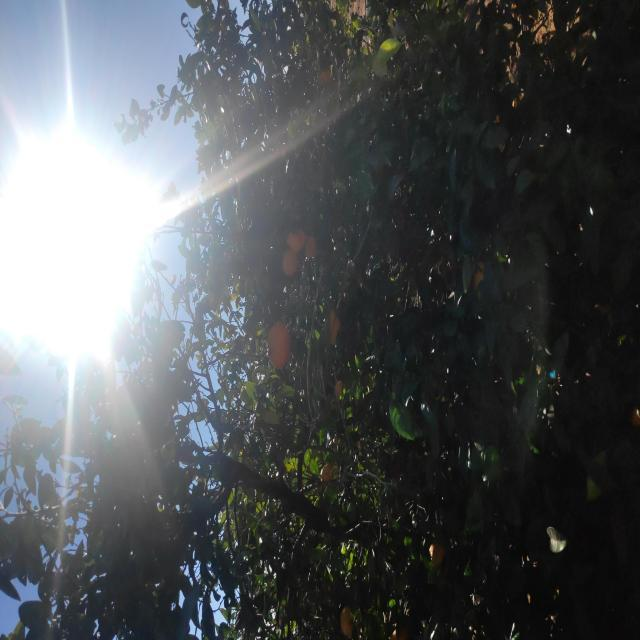Jeruk Sudah Matang: (272, 268, 316, 290), (296, 326, 332, 339), (363, 282, 392, 298), (352, 472, 380, 485), (4, 340, 34, 352), (390, 288, 412, 304), (383, 302, 404, 318), (159, 321, 174, 334)
